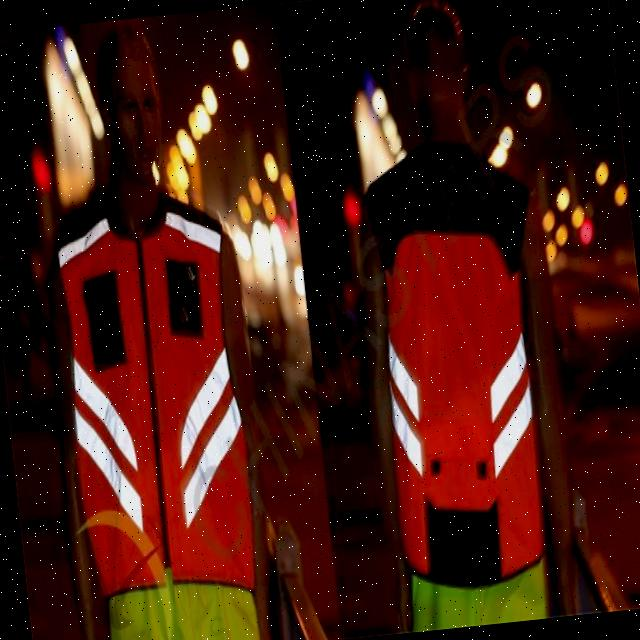vest: (345, 107, 587, 634), (70, 164, 294, 640)
